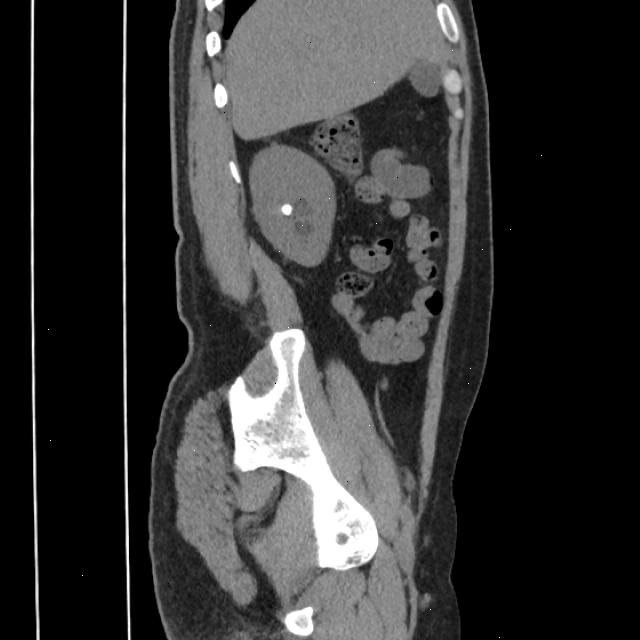kidneystone: (280, 204, 291, 216)
